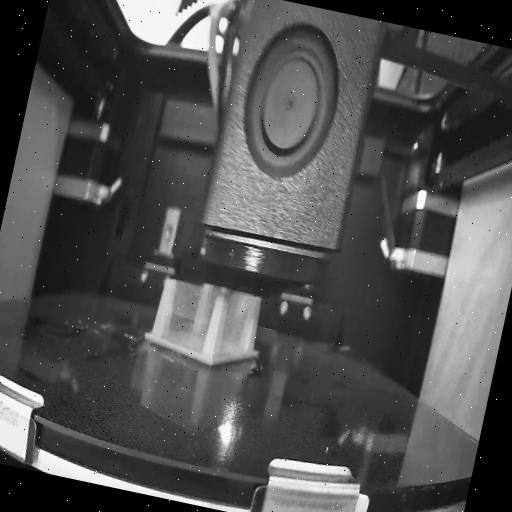stringing: (156, 273, 218, 353), (216, 286, 260, 364)
